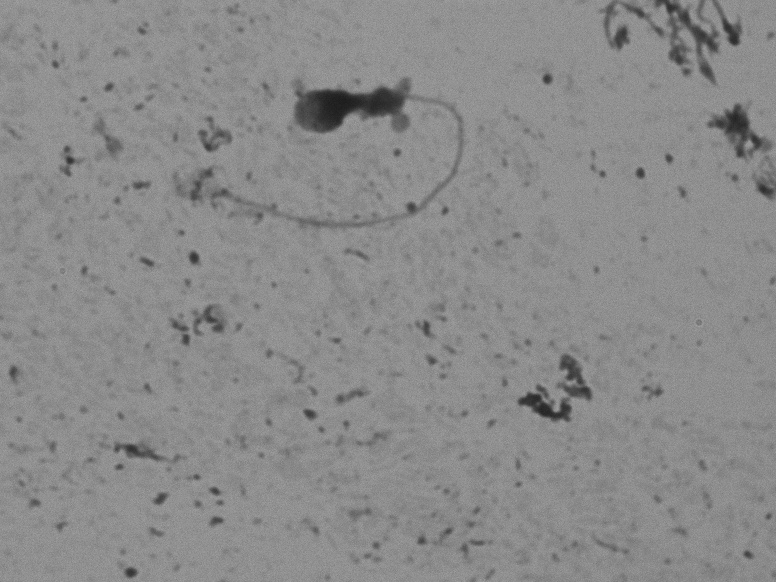Abnormal: (157, 58, 493, 256)
